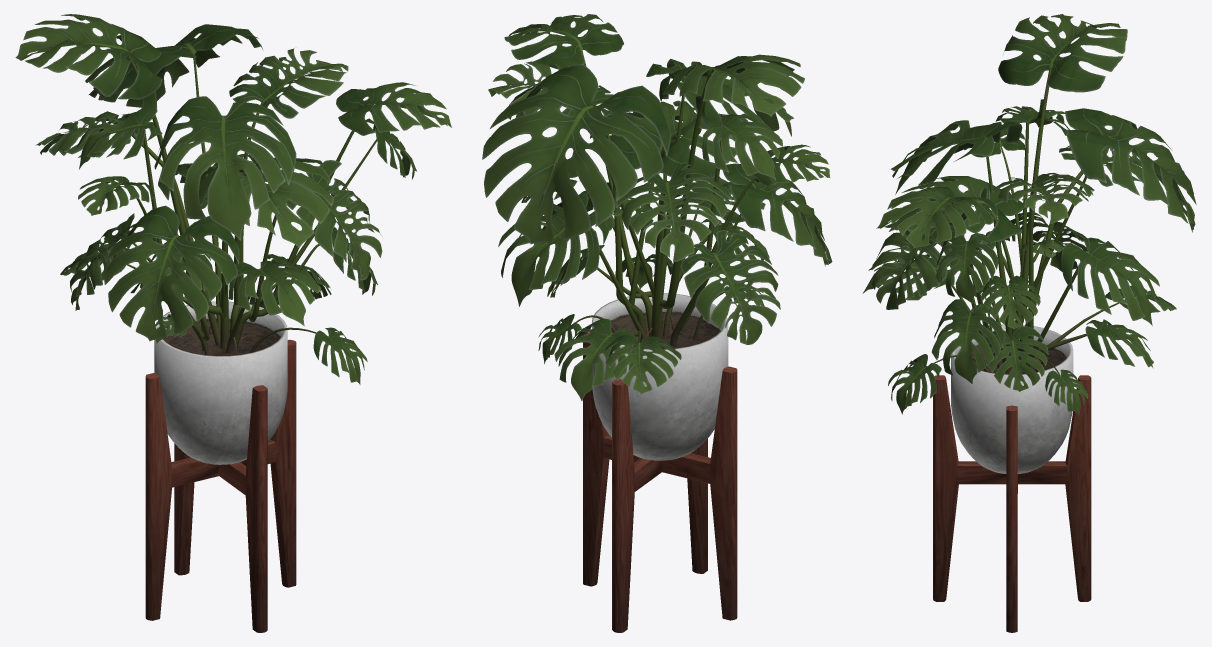
The model's file is plant_monstera.glb.
3 views of the same model, side by side, from view 1: azimuth 30°, elevation 25°; view 2: azimuth 150°, elevation 25°; view 3: azimuth 270°, elevation 25° (orthographic). The views are drawn at different scales.
Parts seen in each view (by area): view 1: Leaves_Mat.1_0, Stand_Mat_0, root_HP_1_Mat.2_0; view 2: Leaves_Mat.1_0, Stand_Mat_0, root_HP_1_Mat.2_0; view 3: Leaves_Mat.1_0, Stand_Mat_0, root_HP_1_Mat.2_0.
Boxes of the visible parts, x1,y1,x2,y2 form: Leaves_Mat.1_0: [15, 14, 451, 384]; Stand_Mat_0: [145, 301, 296, 632]; root_HP_1_Mat.2_0: [124, 53, 376, 355]; Leaves_Mat.1_0: [482, 14, 832, 400]; Stand_Mat_0: [583, 293, 737, 632]; root_HP_1_Mat.2_0: [559, 50, 755, 346]; Leaves_Mat.1_0: [862, 14, 1196, 414]; Stand_Mat_0: [933, 324, 1091, 632]; root_HP_1_Mat.2_0: [933, 68, 1124, 375].
Bounding box in the file's own units: 0.818 × 1.28 × 0.7442.
Materials: 3 (3 with a texture image).
